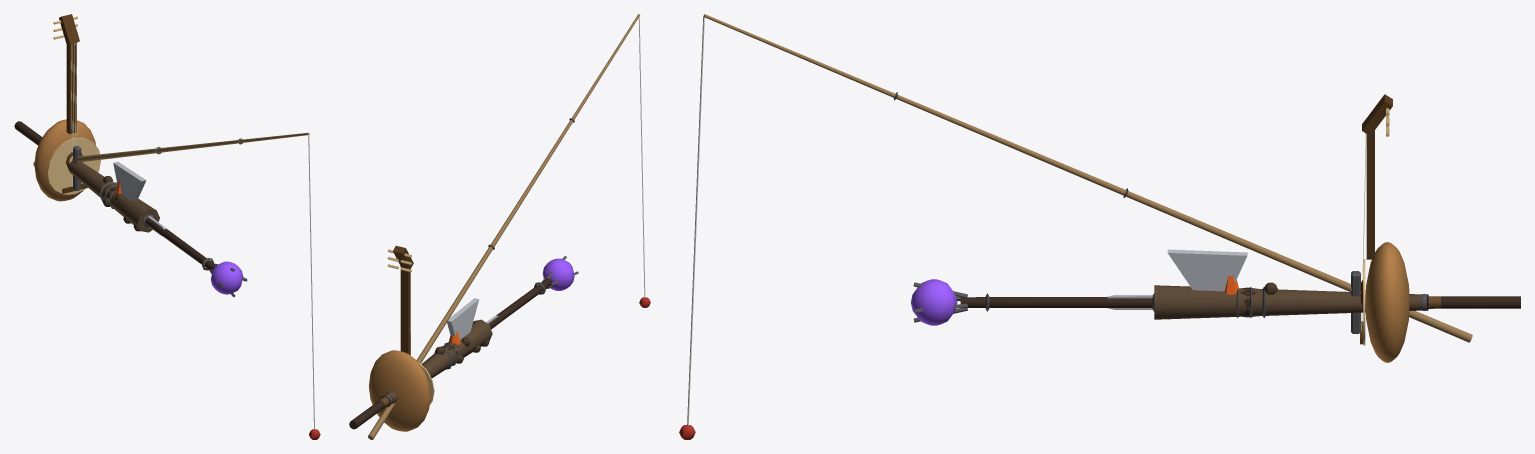
Rendered from handprops.glb.
3 views of the same model, side by side, from view 1: azimuth 30°, elevation 25°; view 2: azimuth 150°, elevation 25°; view 3: azimuth 270°, elevation 25° (orthographic). The views are drawn at different scales.
Parts seen in each view (by area): view 1: lute, staff, club, rod, axe, blade; view 2: lute, rod, staff, club, axe, torch; view 3: lute, rod, club, staff, axe, blade, torch.
Part boxes in pixels (x1,y1,x2,y2): lute: [34, 14, 100, 201]; staff: [14, 121, 247, 296]; club: [68, 161, 159, 232]; rod: [33, 132, 320, 439]; axe: [113, 161, 146, 201]; blade: [73, 145, 165, 236]; lute: [369, 245, 434, 431]; rod: [368, 14, 650, 439]; staff: [349, 256, 578, 429]; club: [384, 319, 492, 403]; axe: [380, 298, 479, 406]; torch: [379, 331, 462, 407]; lute: [1360, 94, 1409, 362]; rod: [679, 14, 1472, 439]; club: [1154, 282, 1420, 319]; staff: [911, 279, 1520, 325]; axe: [1167, 249, 1428, 310]; blade: [1107, 271, 1429, 333]; torch: [1224, 276, 1440, 317].
Size of the model in its own units: 0.3 by 1.41 by 2.52.
